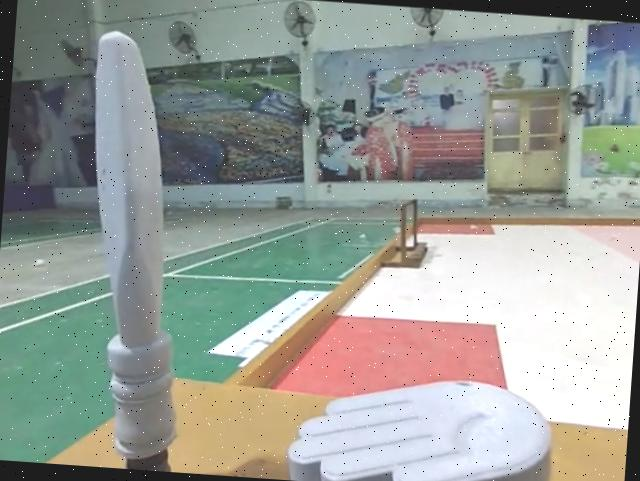Hand: (279, 360, 560, 481)
Sph: (69, 31, 200, 471)
